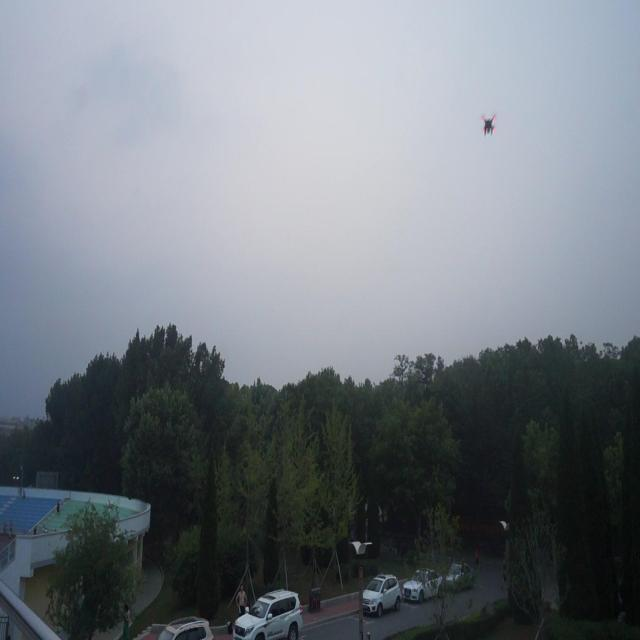drone: (481, 110, 495, 137)
